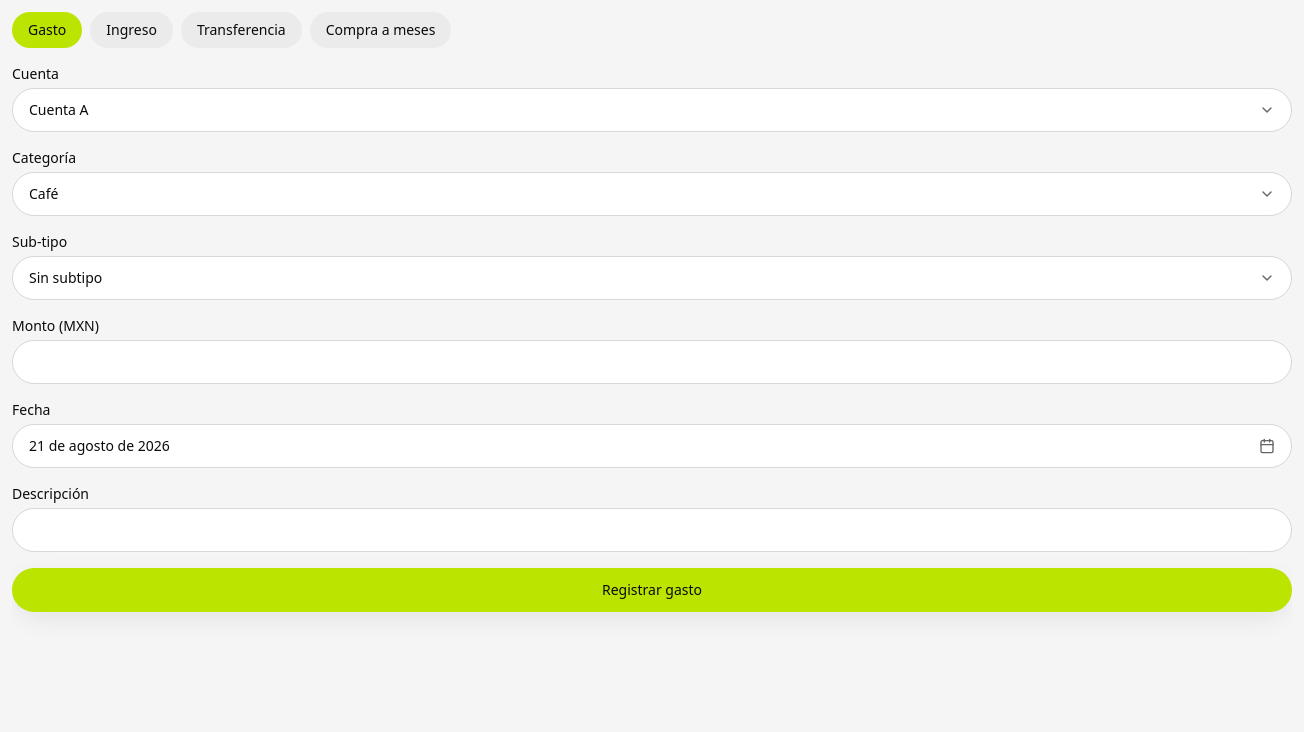
Test case: TransactionForm — smoke render (T-037 / C-1) › switches to the transfer tab and shows Desde/Hacia account fields instead of category/amount-form fields
This screenshot has width=1304, height=732.
Click the button "Transferencia" at [241, 30], box [181, 12, 302, 48]
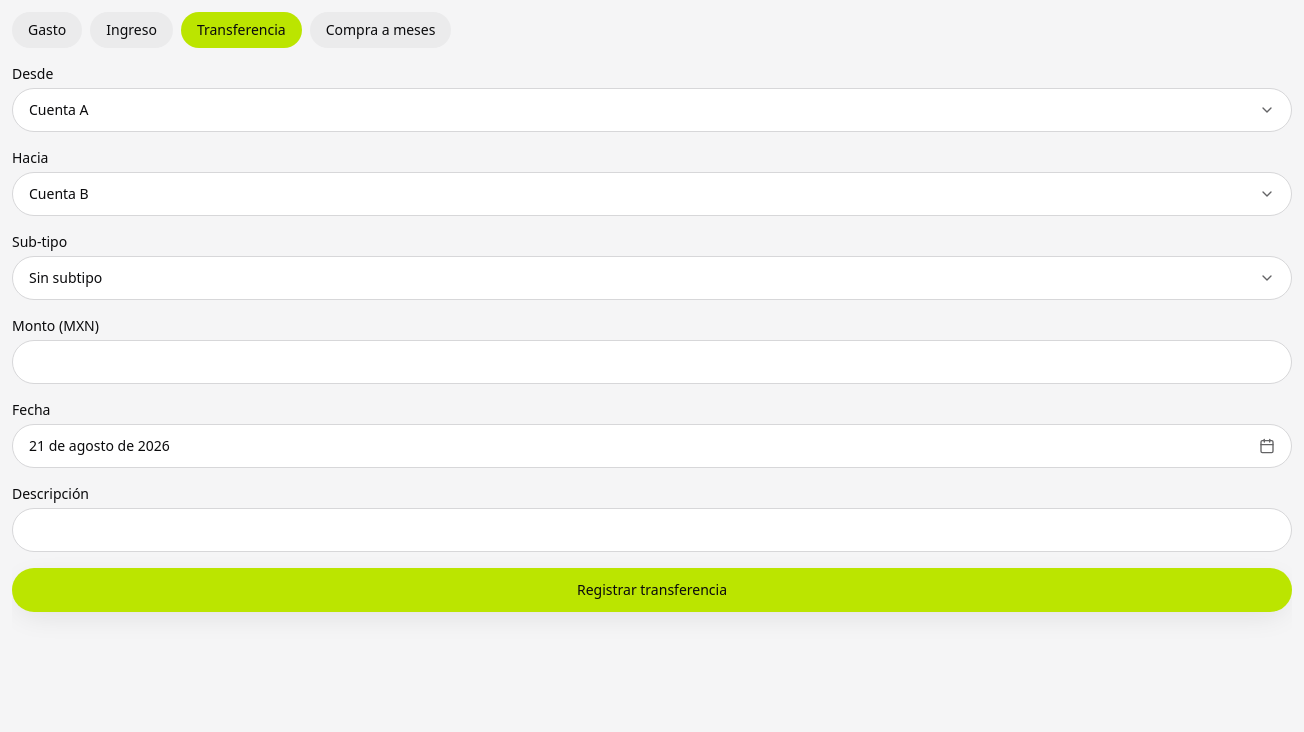
expect the dropdown named "Hacia" is shown: met, box [12, 172, 1292, 216]
expect the button "Registrar transferencia" is shown: met, box [12, 568, 1292, 612]
expect the label labelled "Categoría" is gone: met
